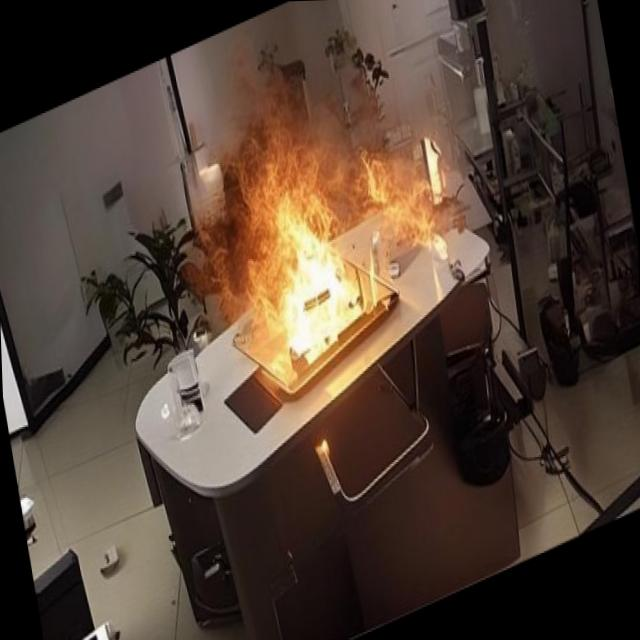fire: (181, 21, 498, 431)
